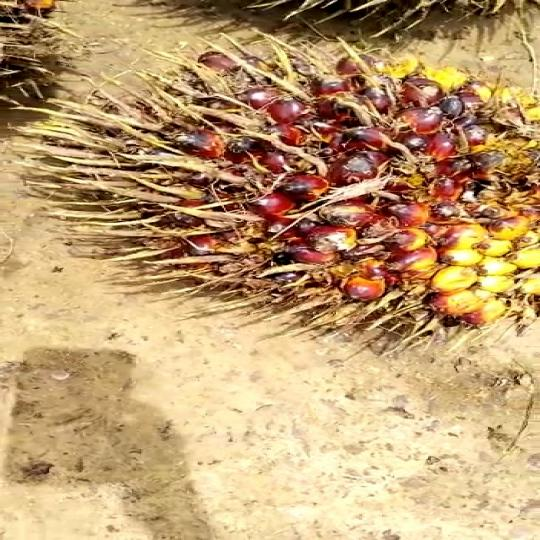masak: (35, 19, 540, 359)
